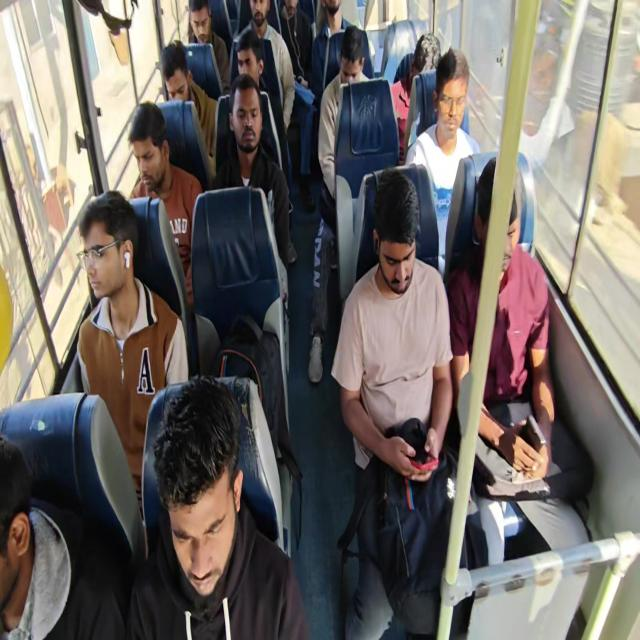person: (124, 312, 273, 627), (0, 390, 80, 640), (355, 163, 440, 313), (475, 160, 549, 310), (126, 109, 202, 250), (52, 202, 129, 314), (153, 54, 211, 131), (437, 50, 482, 144), (231, 78, 274, 175), (224, 38, 286, 95), (186, 0, 224, 58), (407, 34, 445, 91), (270, 0, 311, 50), (341, 21, 375, 74), (313, 0, 348, 39), (248, 0, 273, 39)
